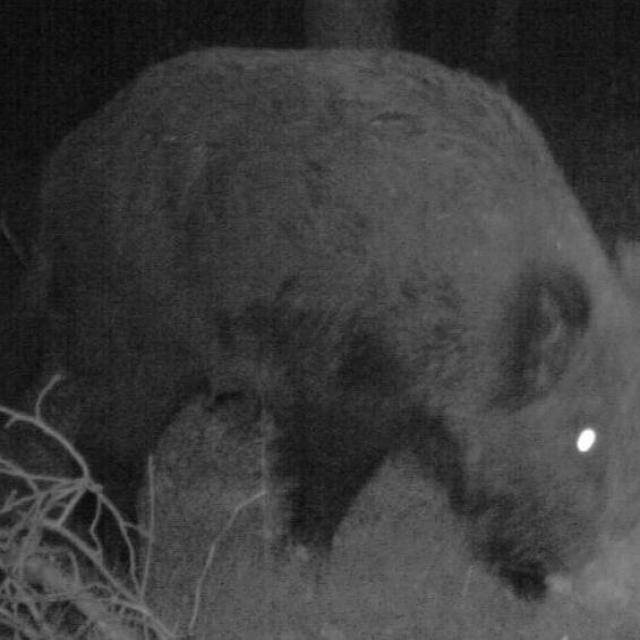pig: (25, 0, 640, 610)
